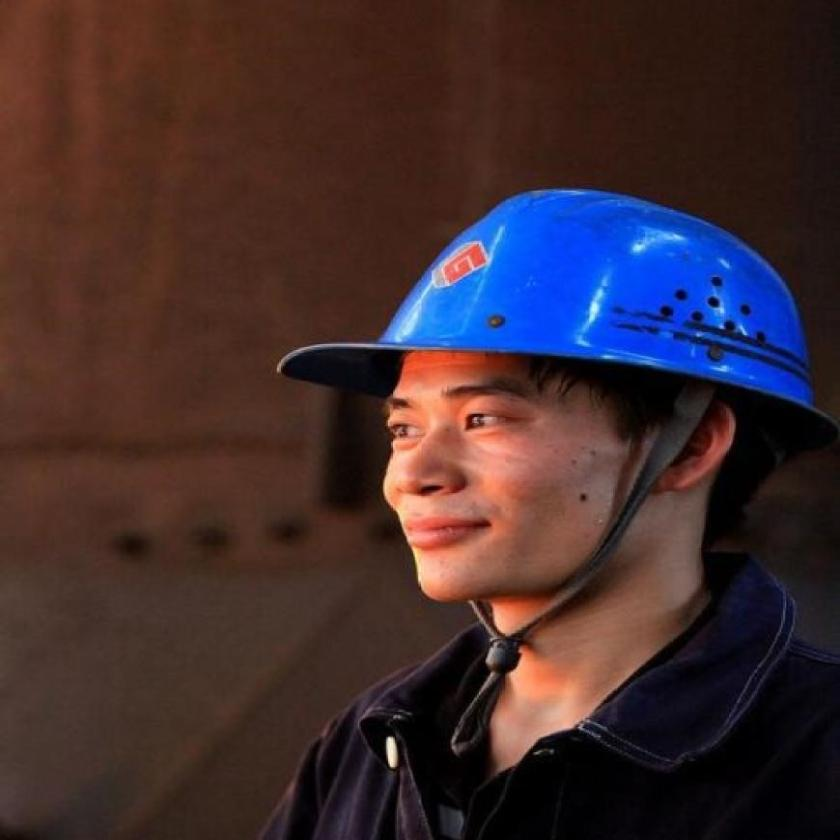Con_casco: (277, 180, 832, 651)
